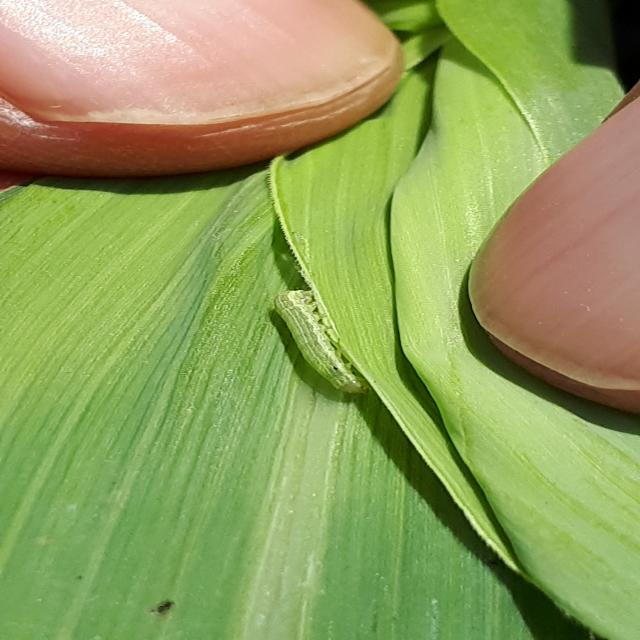armyworm: (278, 283, 377, 411)
